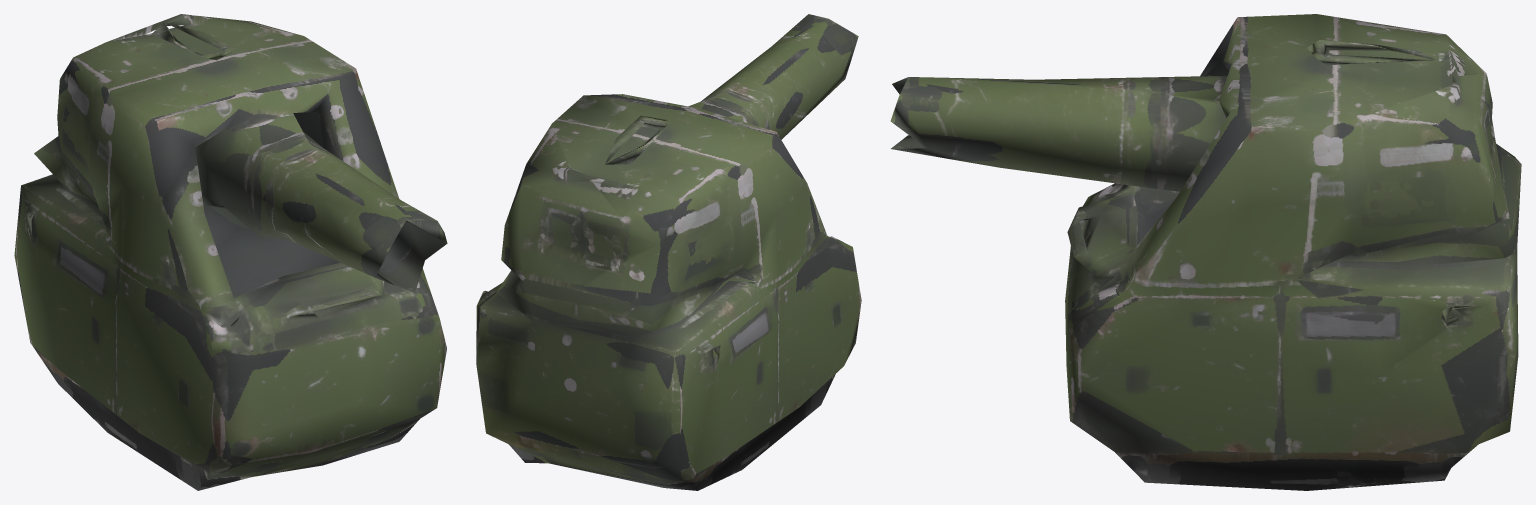
File: hullweapon-b-1-lod2.glb
3 renders of one model, left to right at view 1: azimuth 30°, elevation 25°; view 2: azimuth 150°, elevation 25°; view 3: azimuth 270°, elevation 25°, orthographic. The views are drawn at different scales.
Visible parts, largest first — view 1: Body; view 2: Body; view 3: Body.
Part boxes in pixels (bbox=[...]): Body: bbox=[14, 14, 447, 490]; Body: bbox=[476, 14, 861, 490]; Body: bbox=[890, 14, 1521, 490].
Size of the model in its own units: 0.8564 by 1.14 by 1.66.
Materials: 1 (1 with a texture image).
